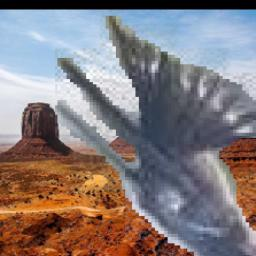Swallow: (54, 11, 256, 256)
